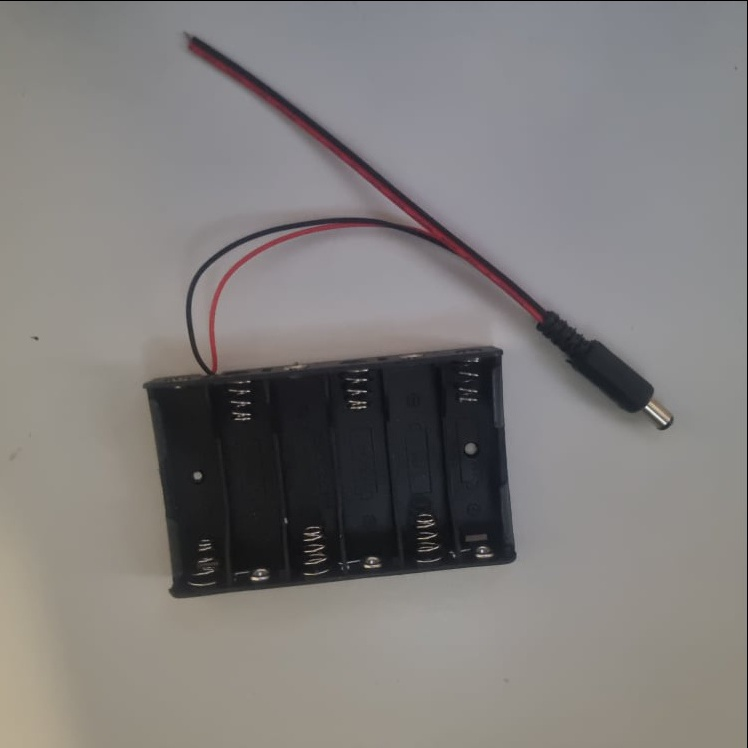BATTERY BOX: (137, 342, 519, 599)
